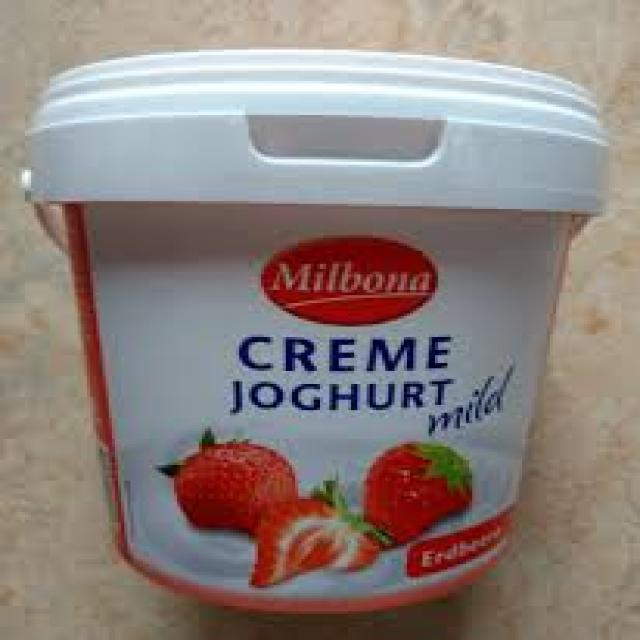plastic: (22, 50, 605, 611), (32, 50, 605, 214)
